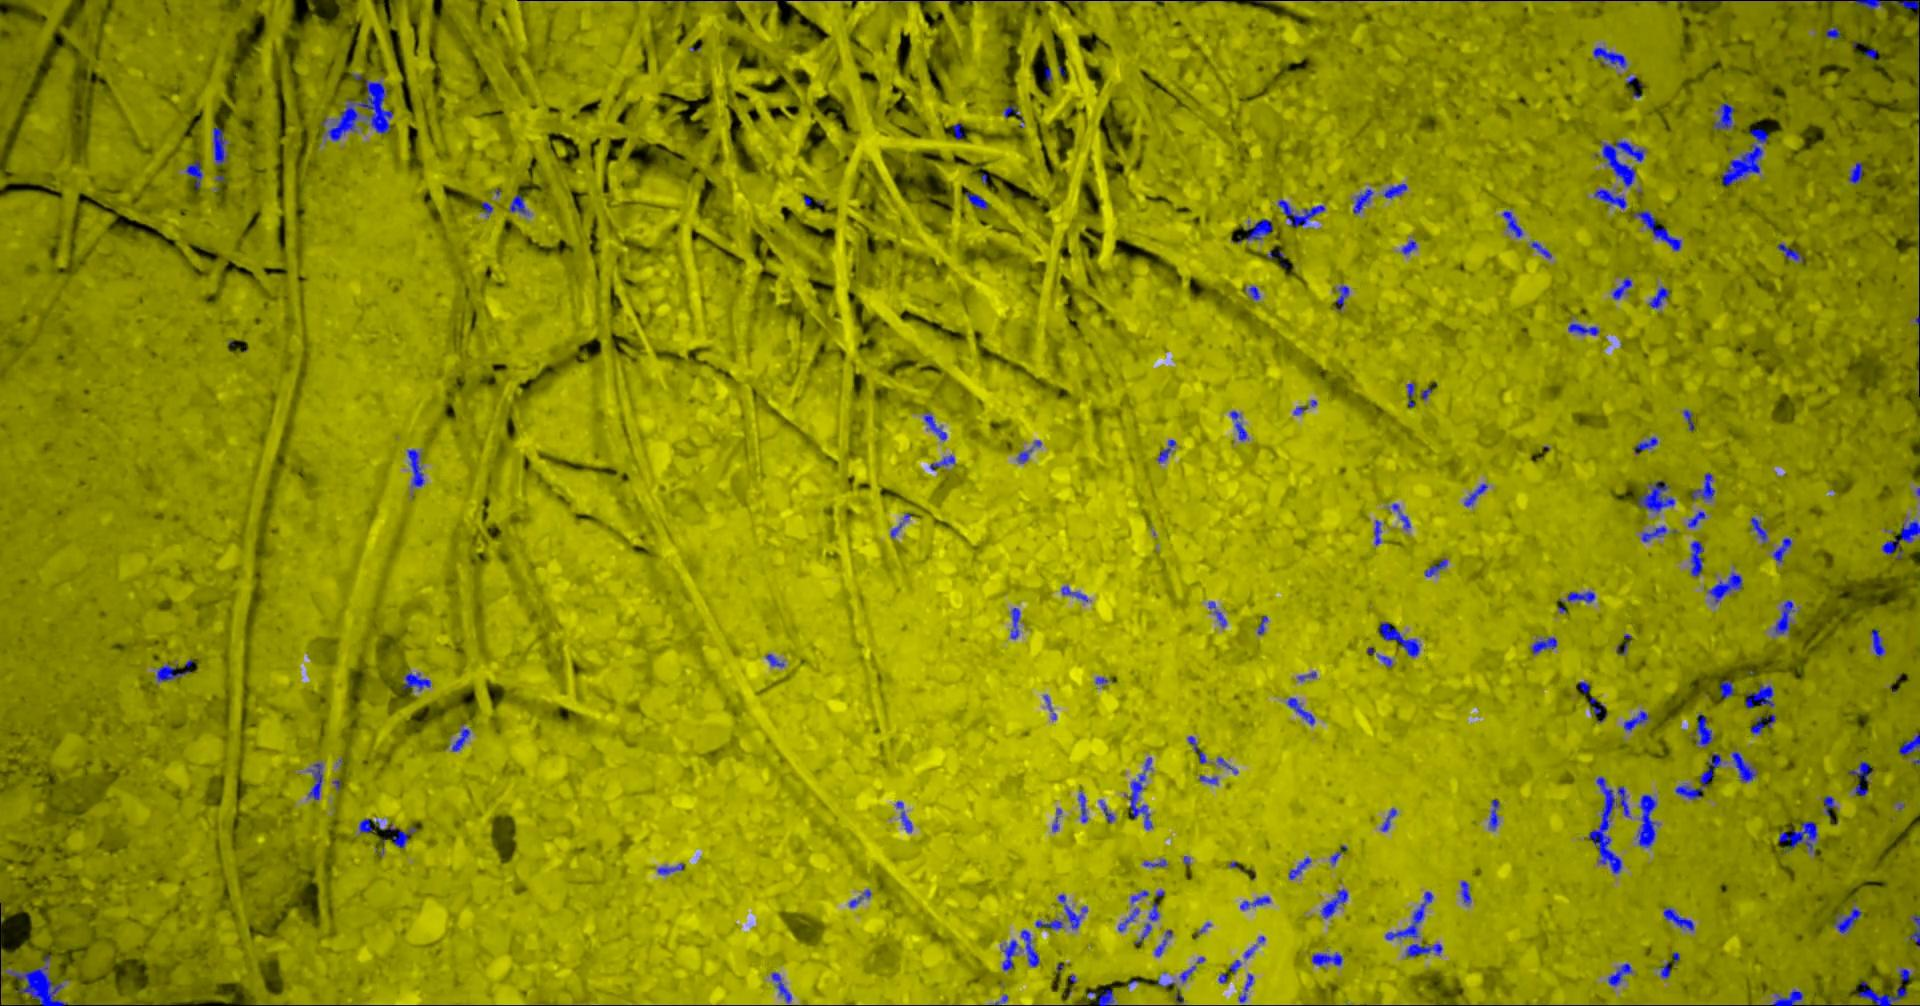ant: (8, 955, 67, 1005), (1719, 128, 1768, 185), (1384, 890, 1432, 939), (1597, 140, 1644, 185), (1674, 753, 1721, 799), (1123, 757, 1152, 829), (1633, 210, 1681, 250), (1881, 520, 1919, 559), (1378, 621, 1418, 657), (1277, 199, 1324, 226), (1778, 821, 1817, 852), (1636, 794, 1658, 847), (1637, 479, 1674, 512), (1857, 981, 1906, 1005), (1133, 901, 1159, 944), (1707, 572, 1742, 602), (1057, 894, 1087, 929), (1230, 218, 1272, 243), (1321, 888, 1347, 918), (1731, 751, 1756, 782), (1558, 591, 1595, 612), (1832, 907, 1862, 934), (156, 659, 192, 681), (1773, 600, 1794, 634), (1743, 683, 1774, 708), (1288, 697, 1314, 724), (1020, 929, 1037, 967), (1853, 0, 1919, 10), (1592, 47, 1625, 67), (1592, 188, 1625, 208), (1663, 907, 1693, 930), (770, 972, 791, 1002), (923, 412, 946, 439), (1691, 473, 1714, 500), (408, 448, 424, 486), (1713, 102, 1735, 130), (212, 126, 227, 164), (1502, 210, 1523, 238), (1229, 410, 1248, 439), (1463, 483, 1487, 506), (1608, 962, 1630, 986), (1750, 713, 1775, 734), (1848, 760, 1873, 781), (1695, 713, 1712, 746), (307, 763, 323, 799), (1404, 942, 1443, 956), (401, 672, 430, 690), (1352, 188, 1373, 213), (890, 512, 910, 537), (1623, 710, 1648, 730), (1777, 243, 1803, 262), (451, 723, 469, 751), (1154, 929, 1172, 956), (1288, 857, 1310, 879), (1117, 908, 1139, 931), (1390, 503, 1410, 528), (1771, 537, 1790, 563), (1002, 939, 1017, 970), (1208, 601, 1225, 627), (185, 159, 201, 189), (392, 827, 415, 847), (1771, 989, 1802, 1005), (1750, 517, 1768, 542), (1690, 540, 1703, 575), (1238, 973, 1253, 1002), (1310, 951, 1342, 965), (1648, 286, 1669, 307), (1898, 733, 1919, 754), (1156, 439, 1175, 462), (1633, 436, 1657, 453), (1239, 895, 1270, 909), (1641, 525, 1666, 541), (1530, 636, 1556, 653), (965, 191, 987, 210), (1611, 277, 1630, 298), (897, 801, 910, 831), (1423, 558, 1446, 575), (930, 453, 954, 470), (1870, 629, 1884, 657), (1382, 183, 1407, 198), (509, 194, 528, 215), (1567, 323, 1597, 335), (1062, 586, 1087, 601), (848, 889, 870, 907), (1098, 799, 1114, 822), (1380, 808, 1396, 831), (1335, 285, 1349, 309), (1530, 240, 1550, 257), (1077, 790, 1087, 822), (1488, 798, 1498, 829), (1909, 915, 1919, 946), (1822, 795, 1837, 815), (657, 862, 683, 874), (1848, 163, 1862, 184), (1688, 511, 1705, 527), (1016, 447, 1032, 464), (1589, 697, 1605, 714), (1178, 965, 1195, 982), (1097, 988, 1114, 1005), (1010, 607, 1018, 638), (1719, 680, 1733, 699), (1683, 409, 1694, 431), (1460, 880, 1470, 904), (764, 653, 783, 666), (1035, 920, 1062, 929), (1401, 239, 1416, 254), (1373, 520, 1382, 545), (1256, 615, 1267, 634), (1406, 382, 1415, 406), (1825, 25, 1840, 39), (1244, 285, 1258, 298), (358, 818, 372, 832), (1142, 859, 1167, 866), (1853, 784, 1867, 796), (952, 122, 963, 138), (1660, 962, 1670, 978), (1003, 105, 1017, 117), (1863, 48, 1877, 58), (1898, 967, 1909, 981)
